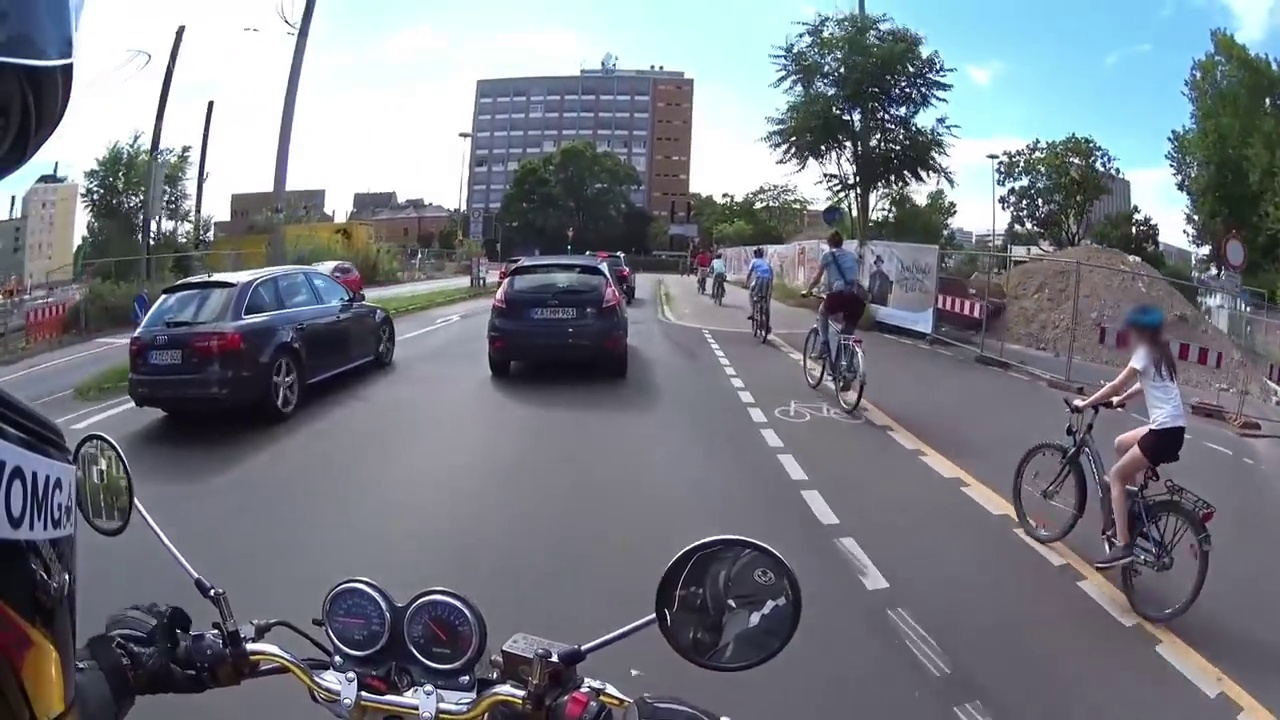cyclist_back: (794, 225, 885, 429), (730, 231, 775, 348), (691, 243, 717, 301), (710, 255, 733, 307)
cyclist_side: (1000, 292, 1225, 635)
